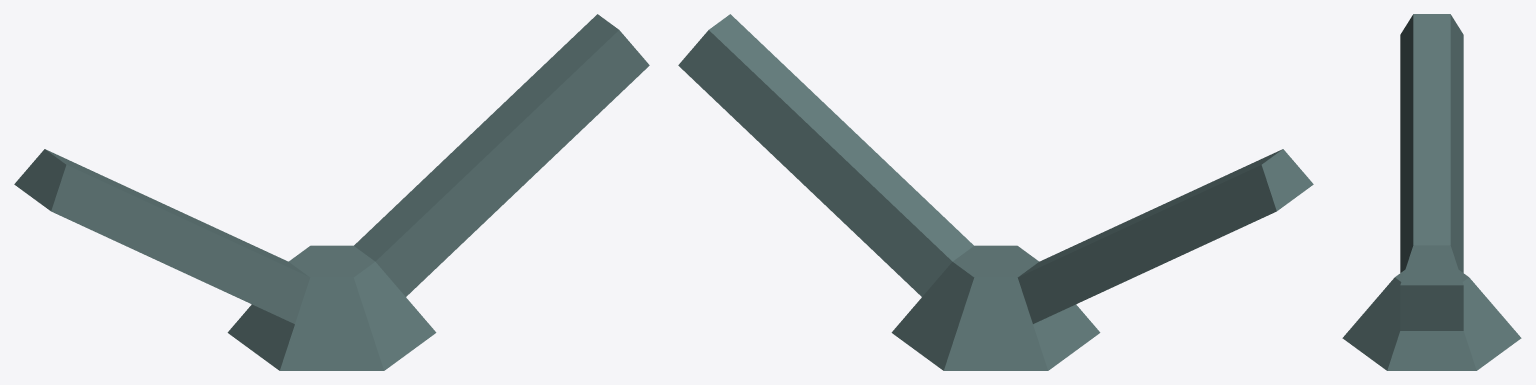
The model's file is televisionAntenna.glb.
3 views of the same model, side by side, from view 1: azimuth 30°, elevation 25°; view 2: azimuth 150°, elevation 25°; view 3: azimuth 270°, elevation 25° (orthographic). The views are drawn at different scales.
Bounding box in the file's own units: 2.65 × 1.03 × 0.8.
